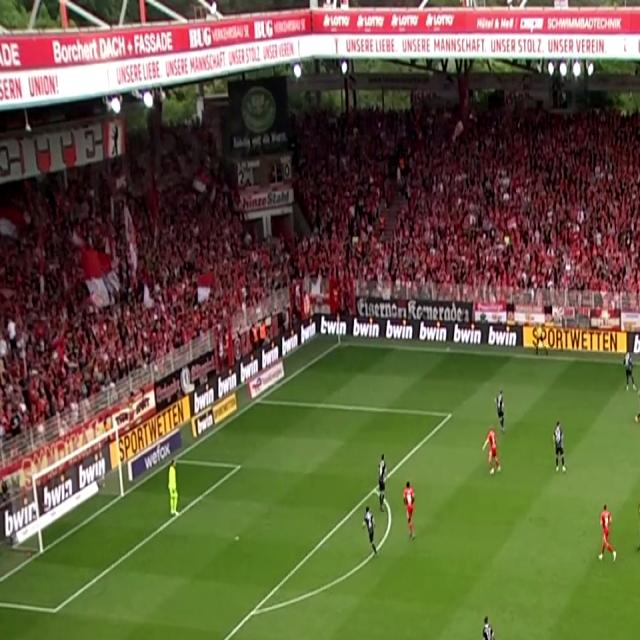goalkeeper: (164, 452, 184, 516)
referee: (632, 489, 640, 555)
soccer-player: (592, 501, 618, 568), (399, 477, 424, 546), (548, 417, 572, 478), (363, 506, 387, 566), (368, 451, 392, 511), (478, 422, 503, 479), (492, 385, 512, 432), (475, 610, 506, 640), (620, 350, 638, 391), (631, 377, 640, 427)
